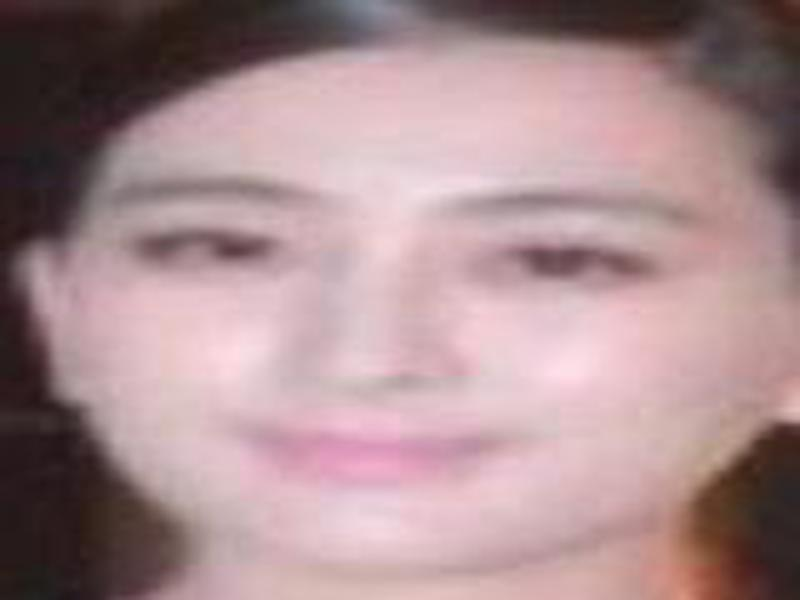without_mask: (72, 63, 765, 568)
